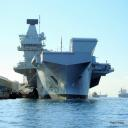Portanaves: (14, 15, 116, 102)
